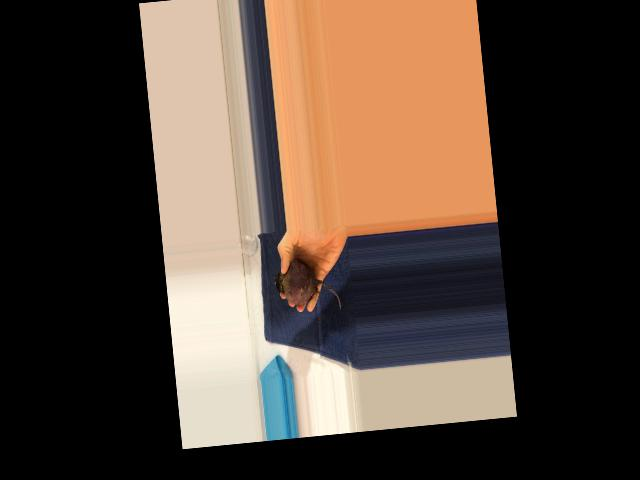beet: (272, 255, 341, 317)
